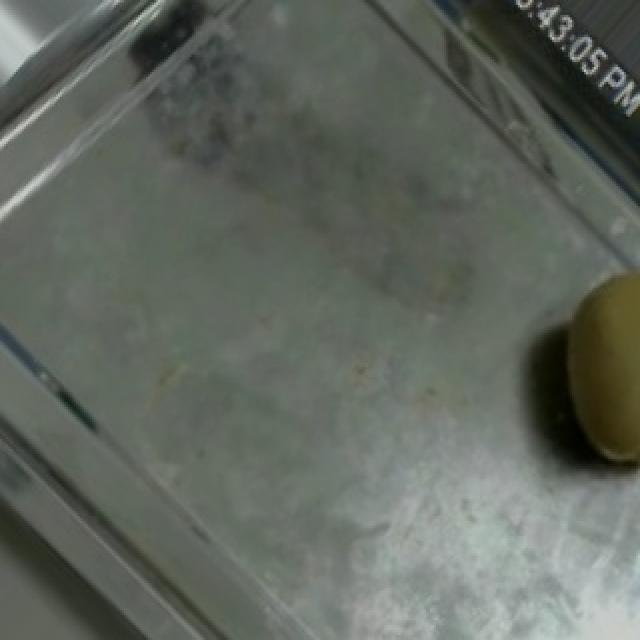Fruit: (512, 233, 640, 496)
